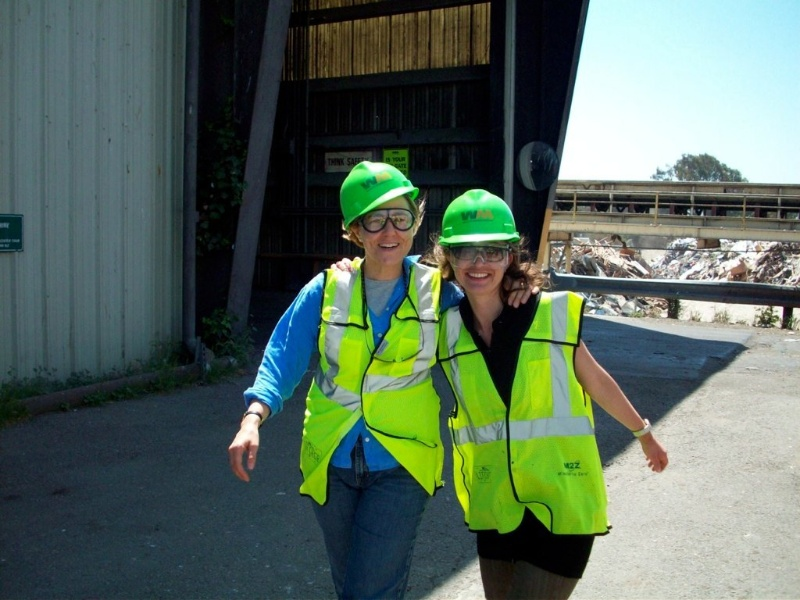Baret: (339, 159, 417, 222), (439, 187, 523, 243)
